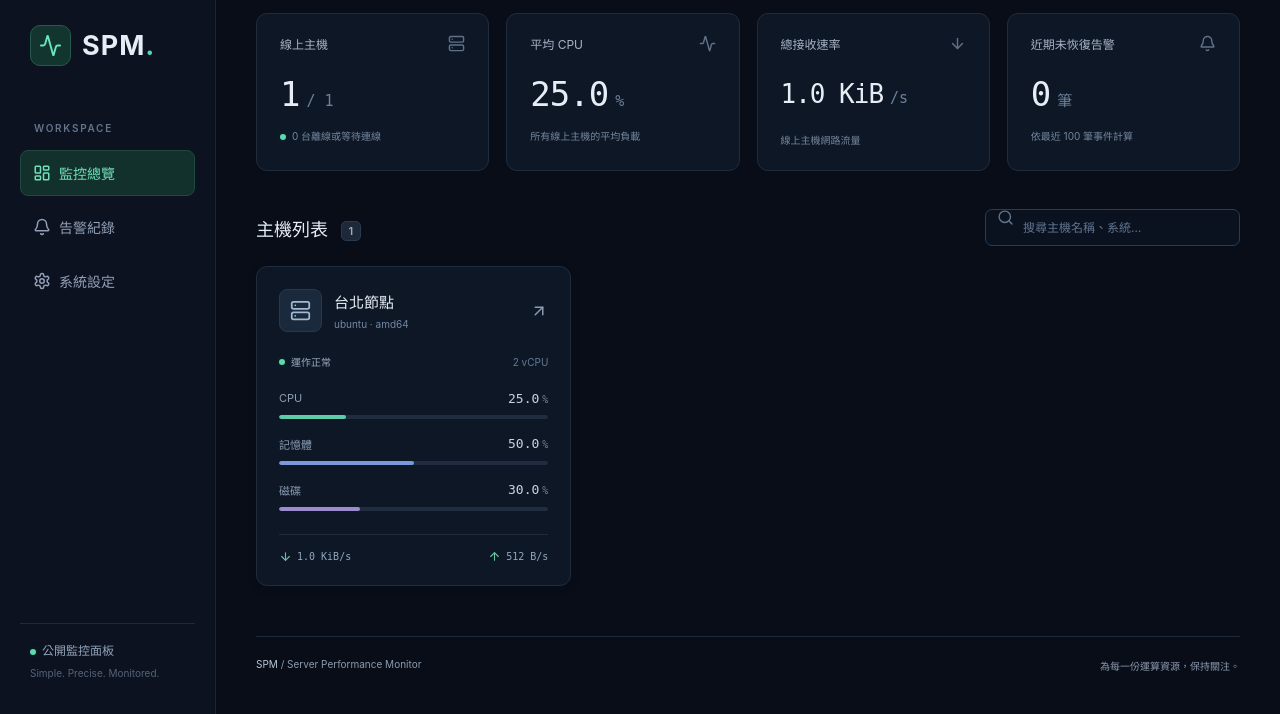
Scenario: monitoring dashboard › starts node overrides with the saved global rules
(page scrolled)
Click the button with test id "node-n1".
click(300, 311)  # box [256, 266, 571, 586]
(page scrolled)
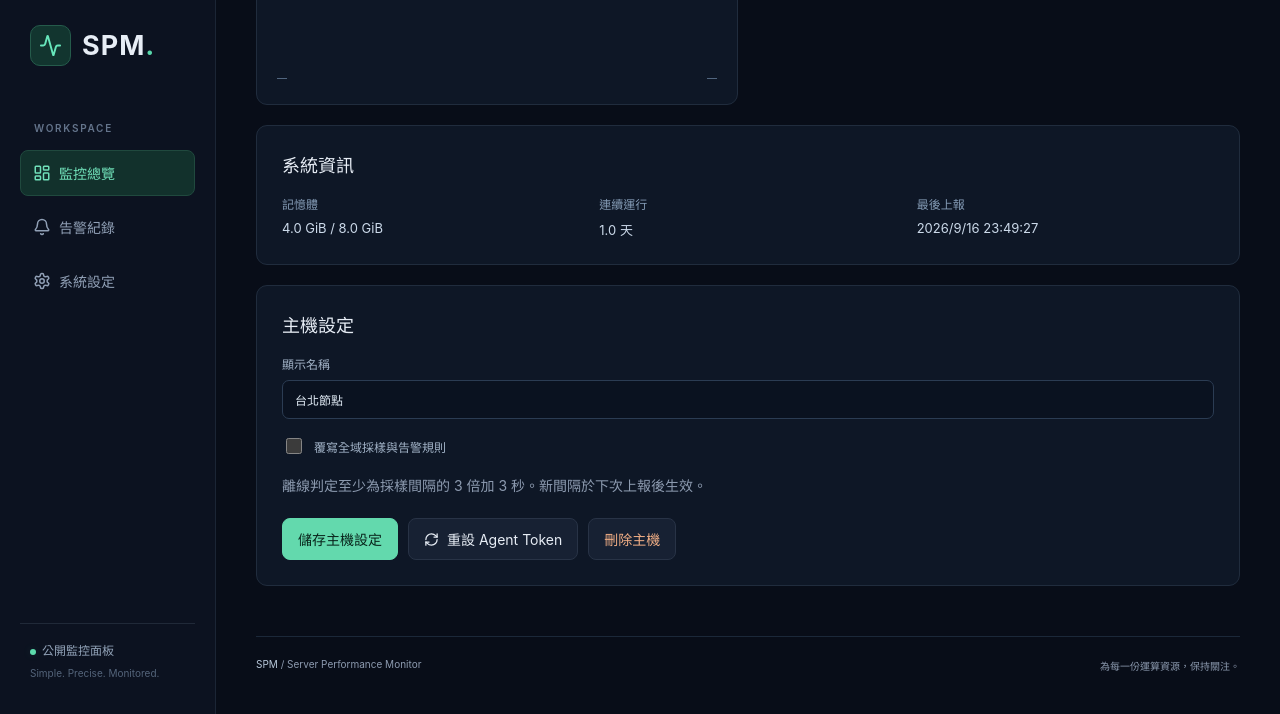
Click the checkbox labelled "覆寫全域採樣與告警規則".
click(294, 446)  # box [286, 438, 302, 454]
(page scrolled)
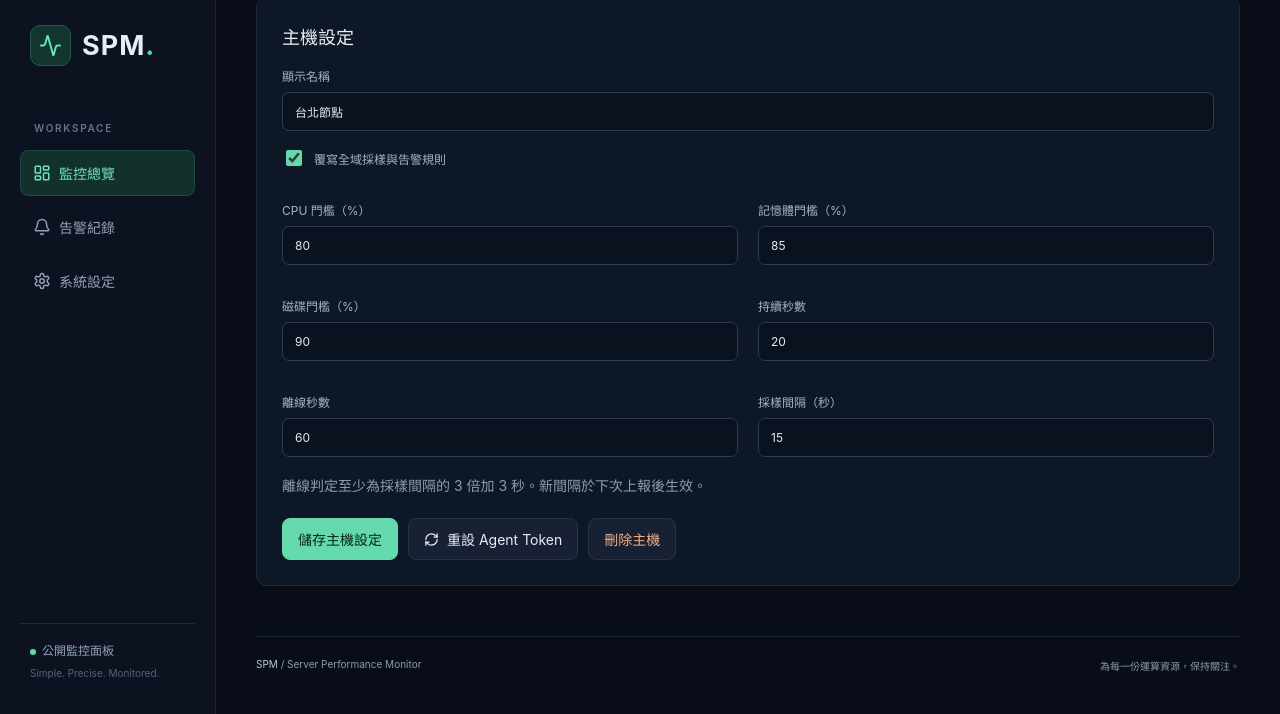
Check: the number field labelled "採樣間隔（秒）" holds "15", box [758, 418, 1214, 457]
